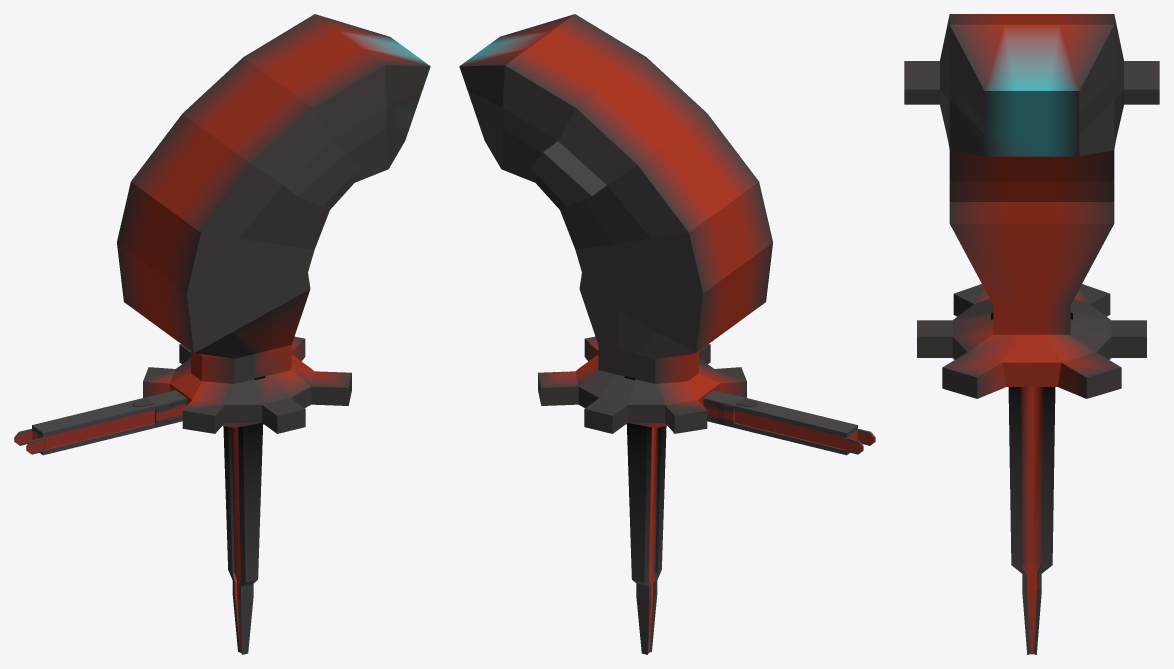
File: robotPartsV1.glb
3 renders of one model, left to right at view 1: azimuth 30°, elevation 25°; view 2: azimuth 150°, elevation 25°; view 3: azimuth 270°, elevation 25°, orthographic. The views are drawn at different scales.
Parts seen in each view (by area): view 1: Cube, leg end, legSegmentLong, legSegmentTwist; view 2: Cube, leg end, legSegmentLong, legSegmentTwist; view 3: Cube, leg end.
Boxes of the visible parts, left/top/right/bottom form: Cube: left=117, top=14, right=430, bottom=433; leg end: left=223, top=376, right=265, bottom=654; legSegmentLong: left=14, top=390, right=186, bottom=455; legSegmentTwist: left=132, top=398, right=186, bottom=427; Cube: left=459, top=14, right=772, bottom=433; leg end: left=624, top=376, right=666, bottom=654; legSegmentLong: left=703, top=390, right=875, bottom=455; legSegmentTwist: left=703, top=398, right=757, bottom=427; Cube: left=904, top=14, right=1159, bottom=398; leg end: left=991, top=312, right=1072, bottom=654.
Bounding box in the file's own units: 22.34 × 32.16 × 10.79.
